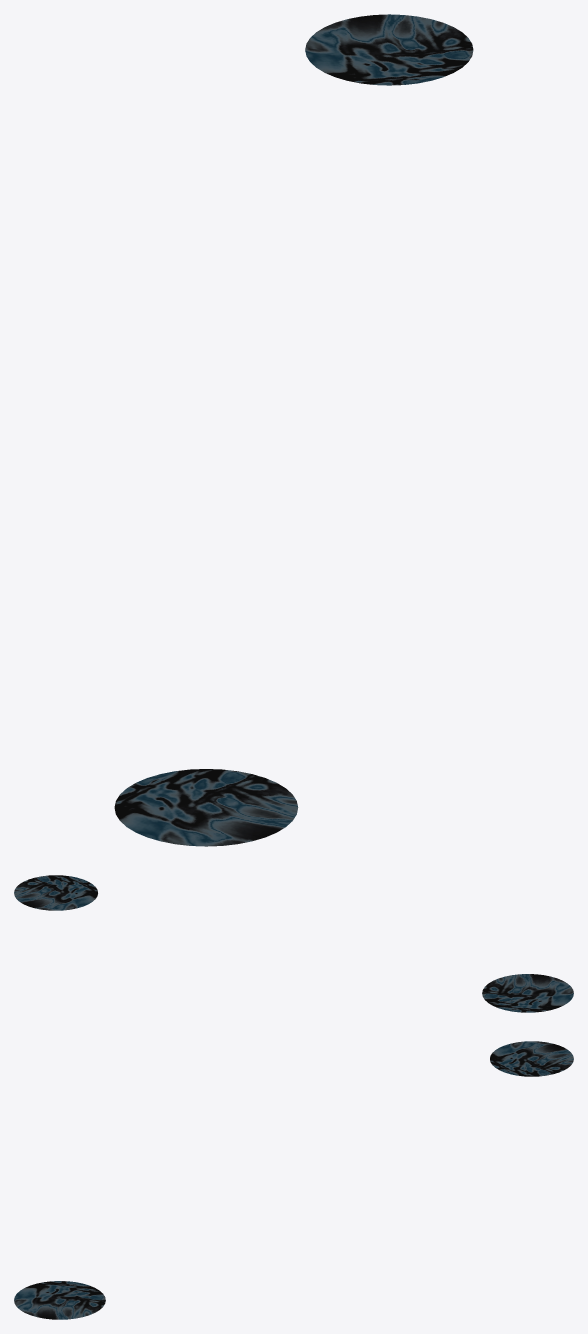
Rendered from water.obj.
3 views of the same model, one above another, from view 1: azimuth 30°, elevation 25°; view 2: azimuth 150°, elevation 25°; view 3: azimuth 330°, elevation 25° (orthographic). The views are drawn at different scales.
Parts seen in each view (by area): view 1: Disc, Disc.1; view 2: Disc, Disc.1; view 3: Disc, Disc.1.
Boxes of the visible parts, x1,y1,x2,y2 form: Disc: (114,769,298,846); Disc.1: (305,14,473,85); Disc: (482,974,573,1012); Disc.1: (14,875,97,910); Disc: (14,1281,105,1319); Disc.1: (490,1041,573,1076).
Size of the model in its own units: 105 by 48.1 by 120.
